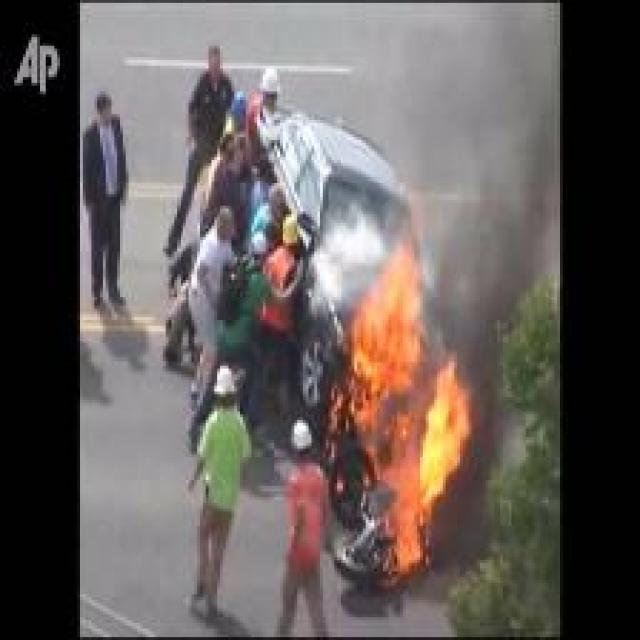Fire: (328, 237, 472, 569)
